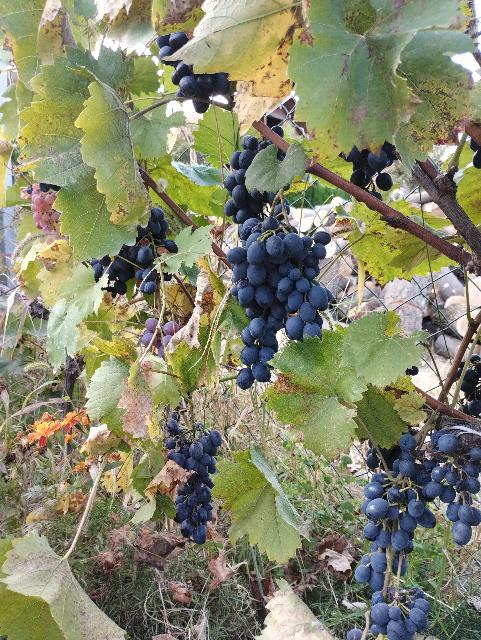grapes: (228, 215, 331, 389), (361, 429, 481, 545), (165, 412, 222, 545), (224, 135, 276, 225), (348, 588, 430, 640)
